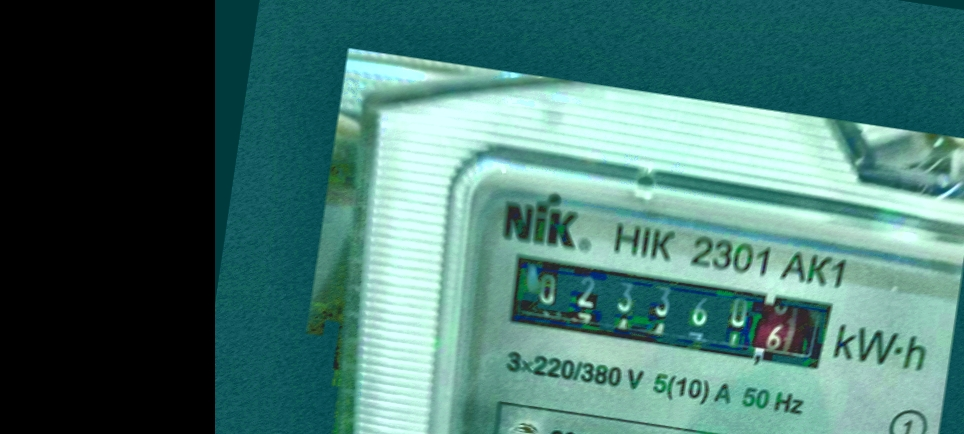0: (535, 269, 562, 307), (727, 293, 754, 331)
2: (575, 273, 601, 311)
3: (614, 279, 638, 316), (652, 283, 675, 319)
6: (689, 292, 713, 328), (764, 318, 786, 353)
screen: (493, 241, 854, 390)
